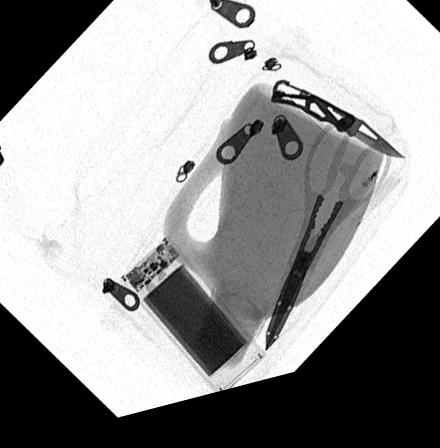Knife: (272, 95, 405, 180)
Powerbank: (121, 243, 266, 403)
Scissors: (264, 132, 388, 366)
